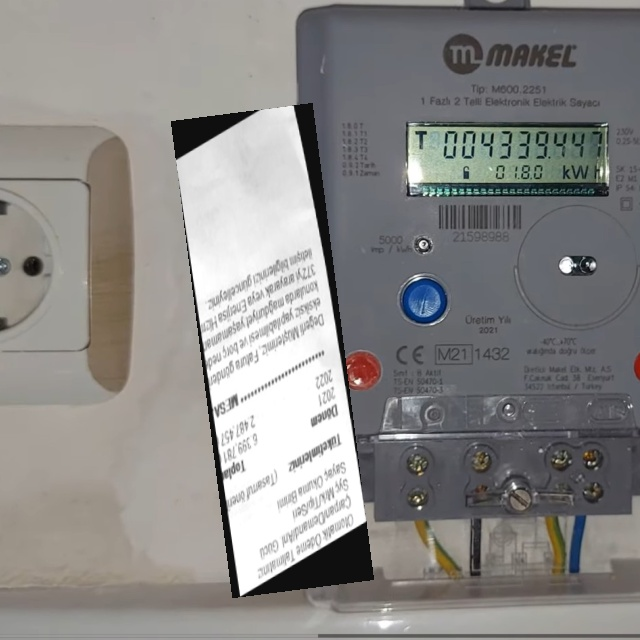electricity-bill: (170, 102, 374, 598)
